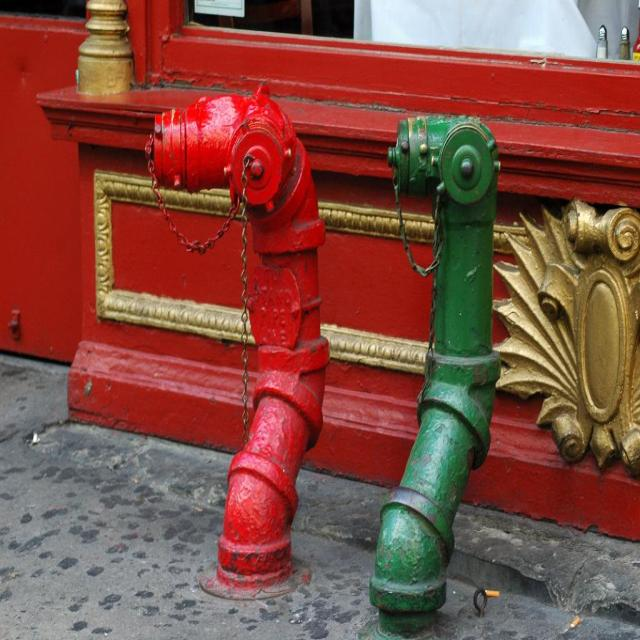fire_hydrant: (389, 122, 518, 614)
